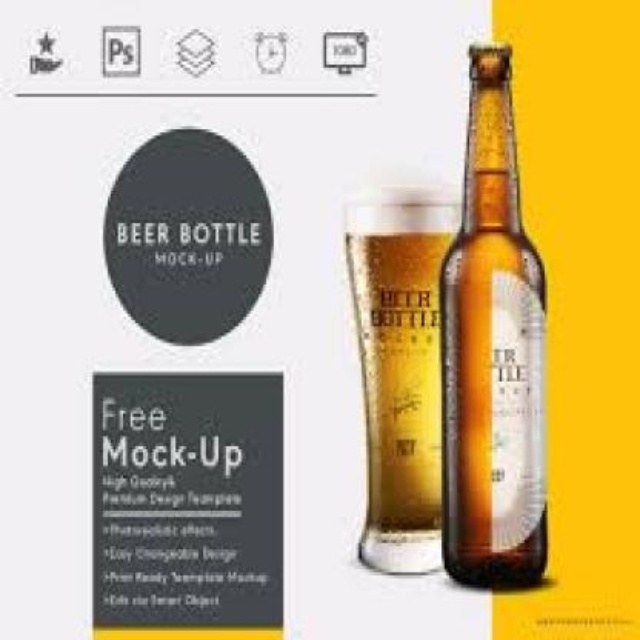trash: (442, 45, 545, 586), (346, 195, 457, 572)
